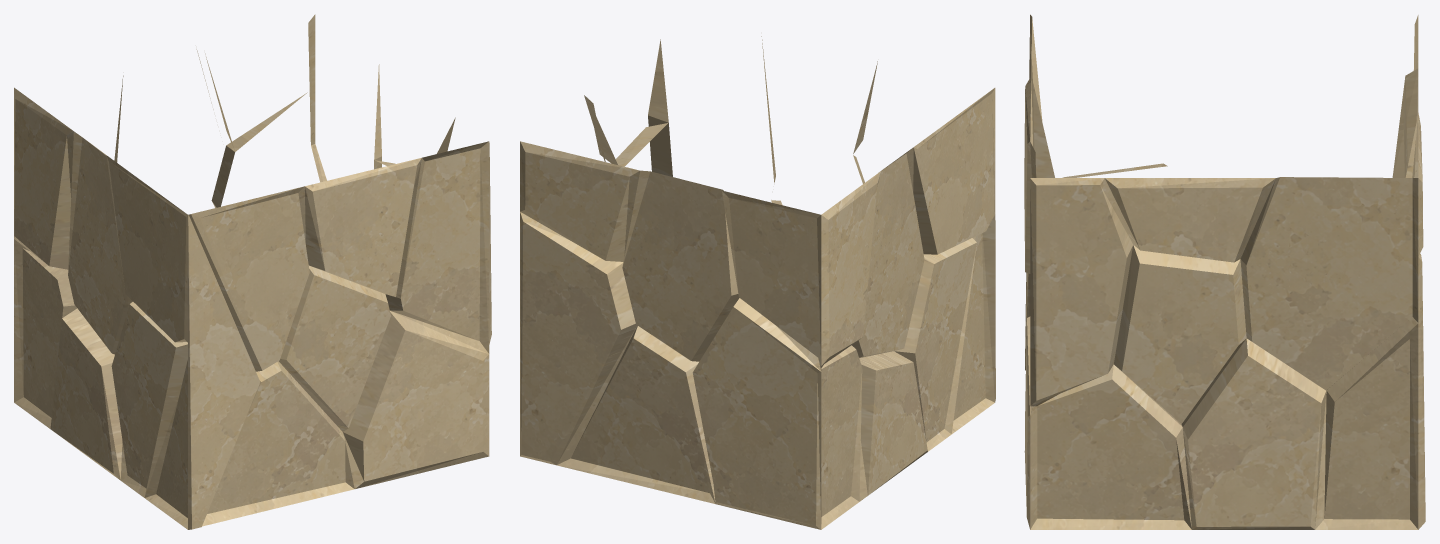
The model's file is ground_rock_10.gltf.
The picture shows the model from 3 angles, left to right: view 1: azimuth 30°, elevation 25°; view 2: azimuth 150°, elevation 25°; view 3: azimuth 270°, elevation 25°; orthographic projection. The views are drawn at different scales.
Parts seen in each view (by area): view 1: ground_rock_10; view 2: ground_rock_10; view 3: ground_rock_10.
Part boxes in pixels (x1,y1,x2,y2): ground_rock_10: (14, 14, 491, 529); ground_rock_10: (520, 36, 995, 529); ground_rock_10: (1024, 14, 1425, 529).
Size of the model in its own units: 1.04 by 1 by 1.03.
28 materials, 28 textured.
